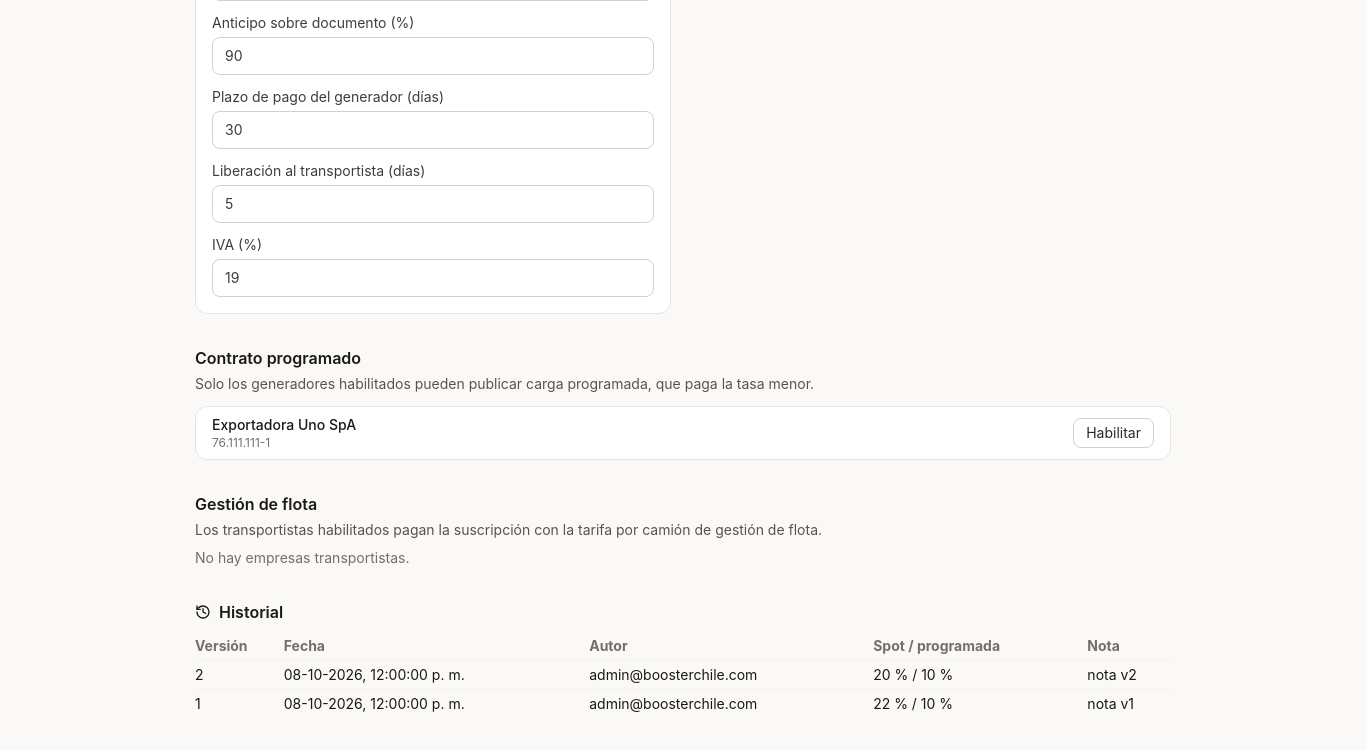
Test: contrato programado (ADR-079 §2) › error al cambiar se muestra
The width and height of the screenshot is (1366, 750).
(page scrolled)
Click the button with aria-label "Habilitar contrato programado de Exportadora Uno SpA": (1114, 433) [1073, 418, 1154, 448]
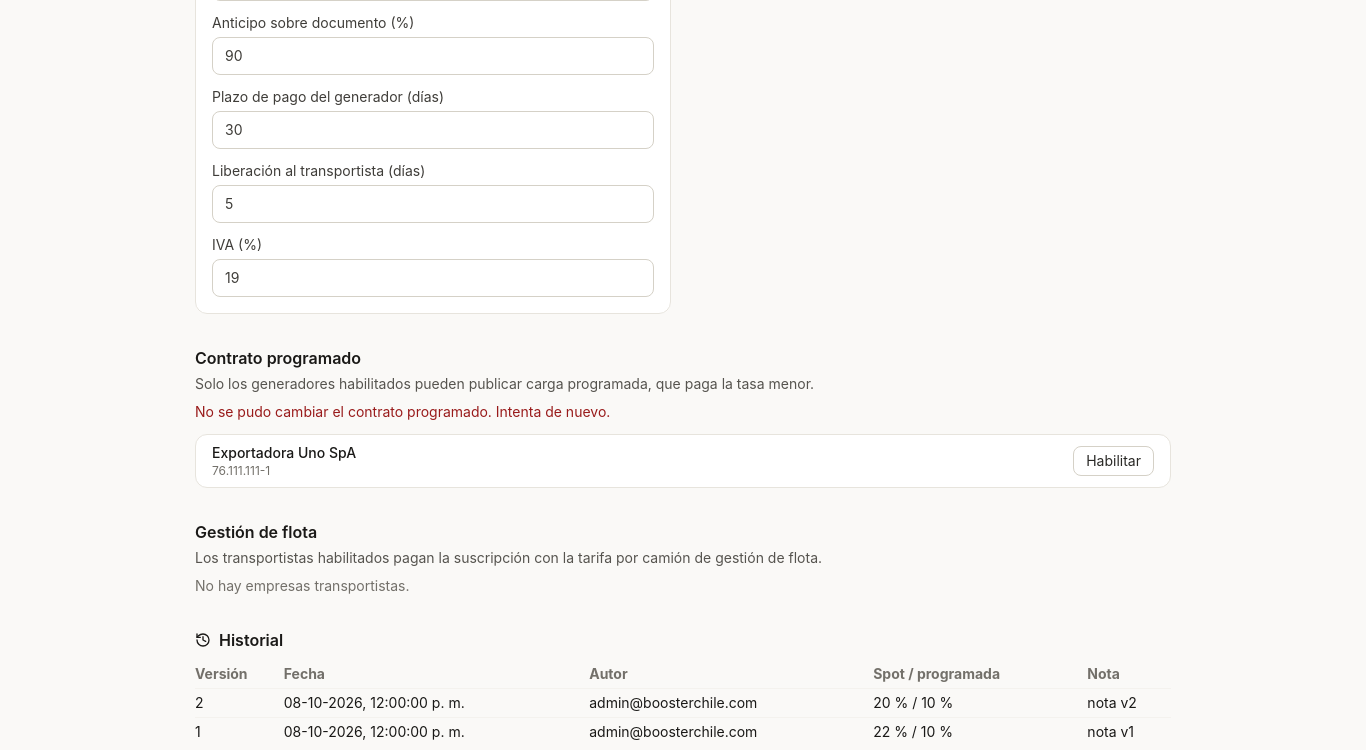
Now the text "No se pudo cambiar el contrato programado. Intenta de nuevo." is shown, box [195, 403, 610, 420]
